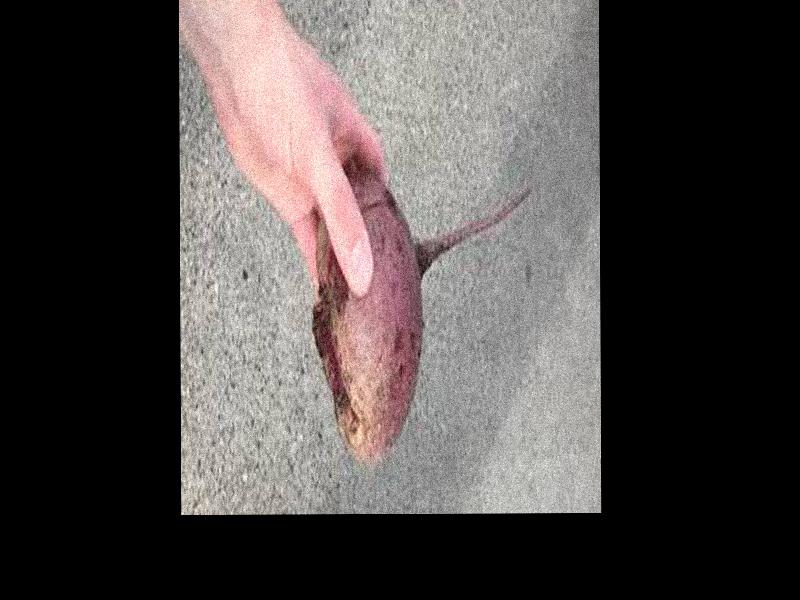Beet: (312, 177, 530, 461)
